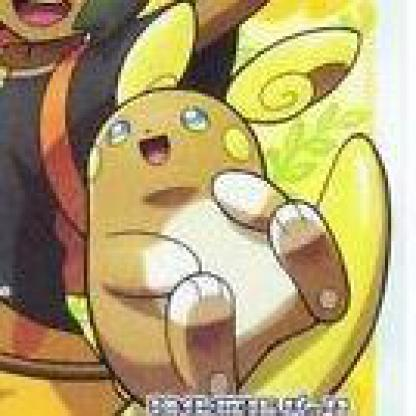Raichu: (1, 4, 414, 414)
